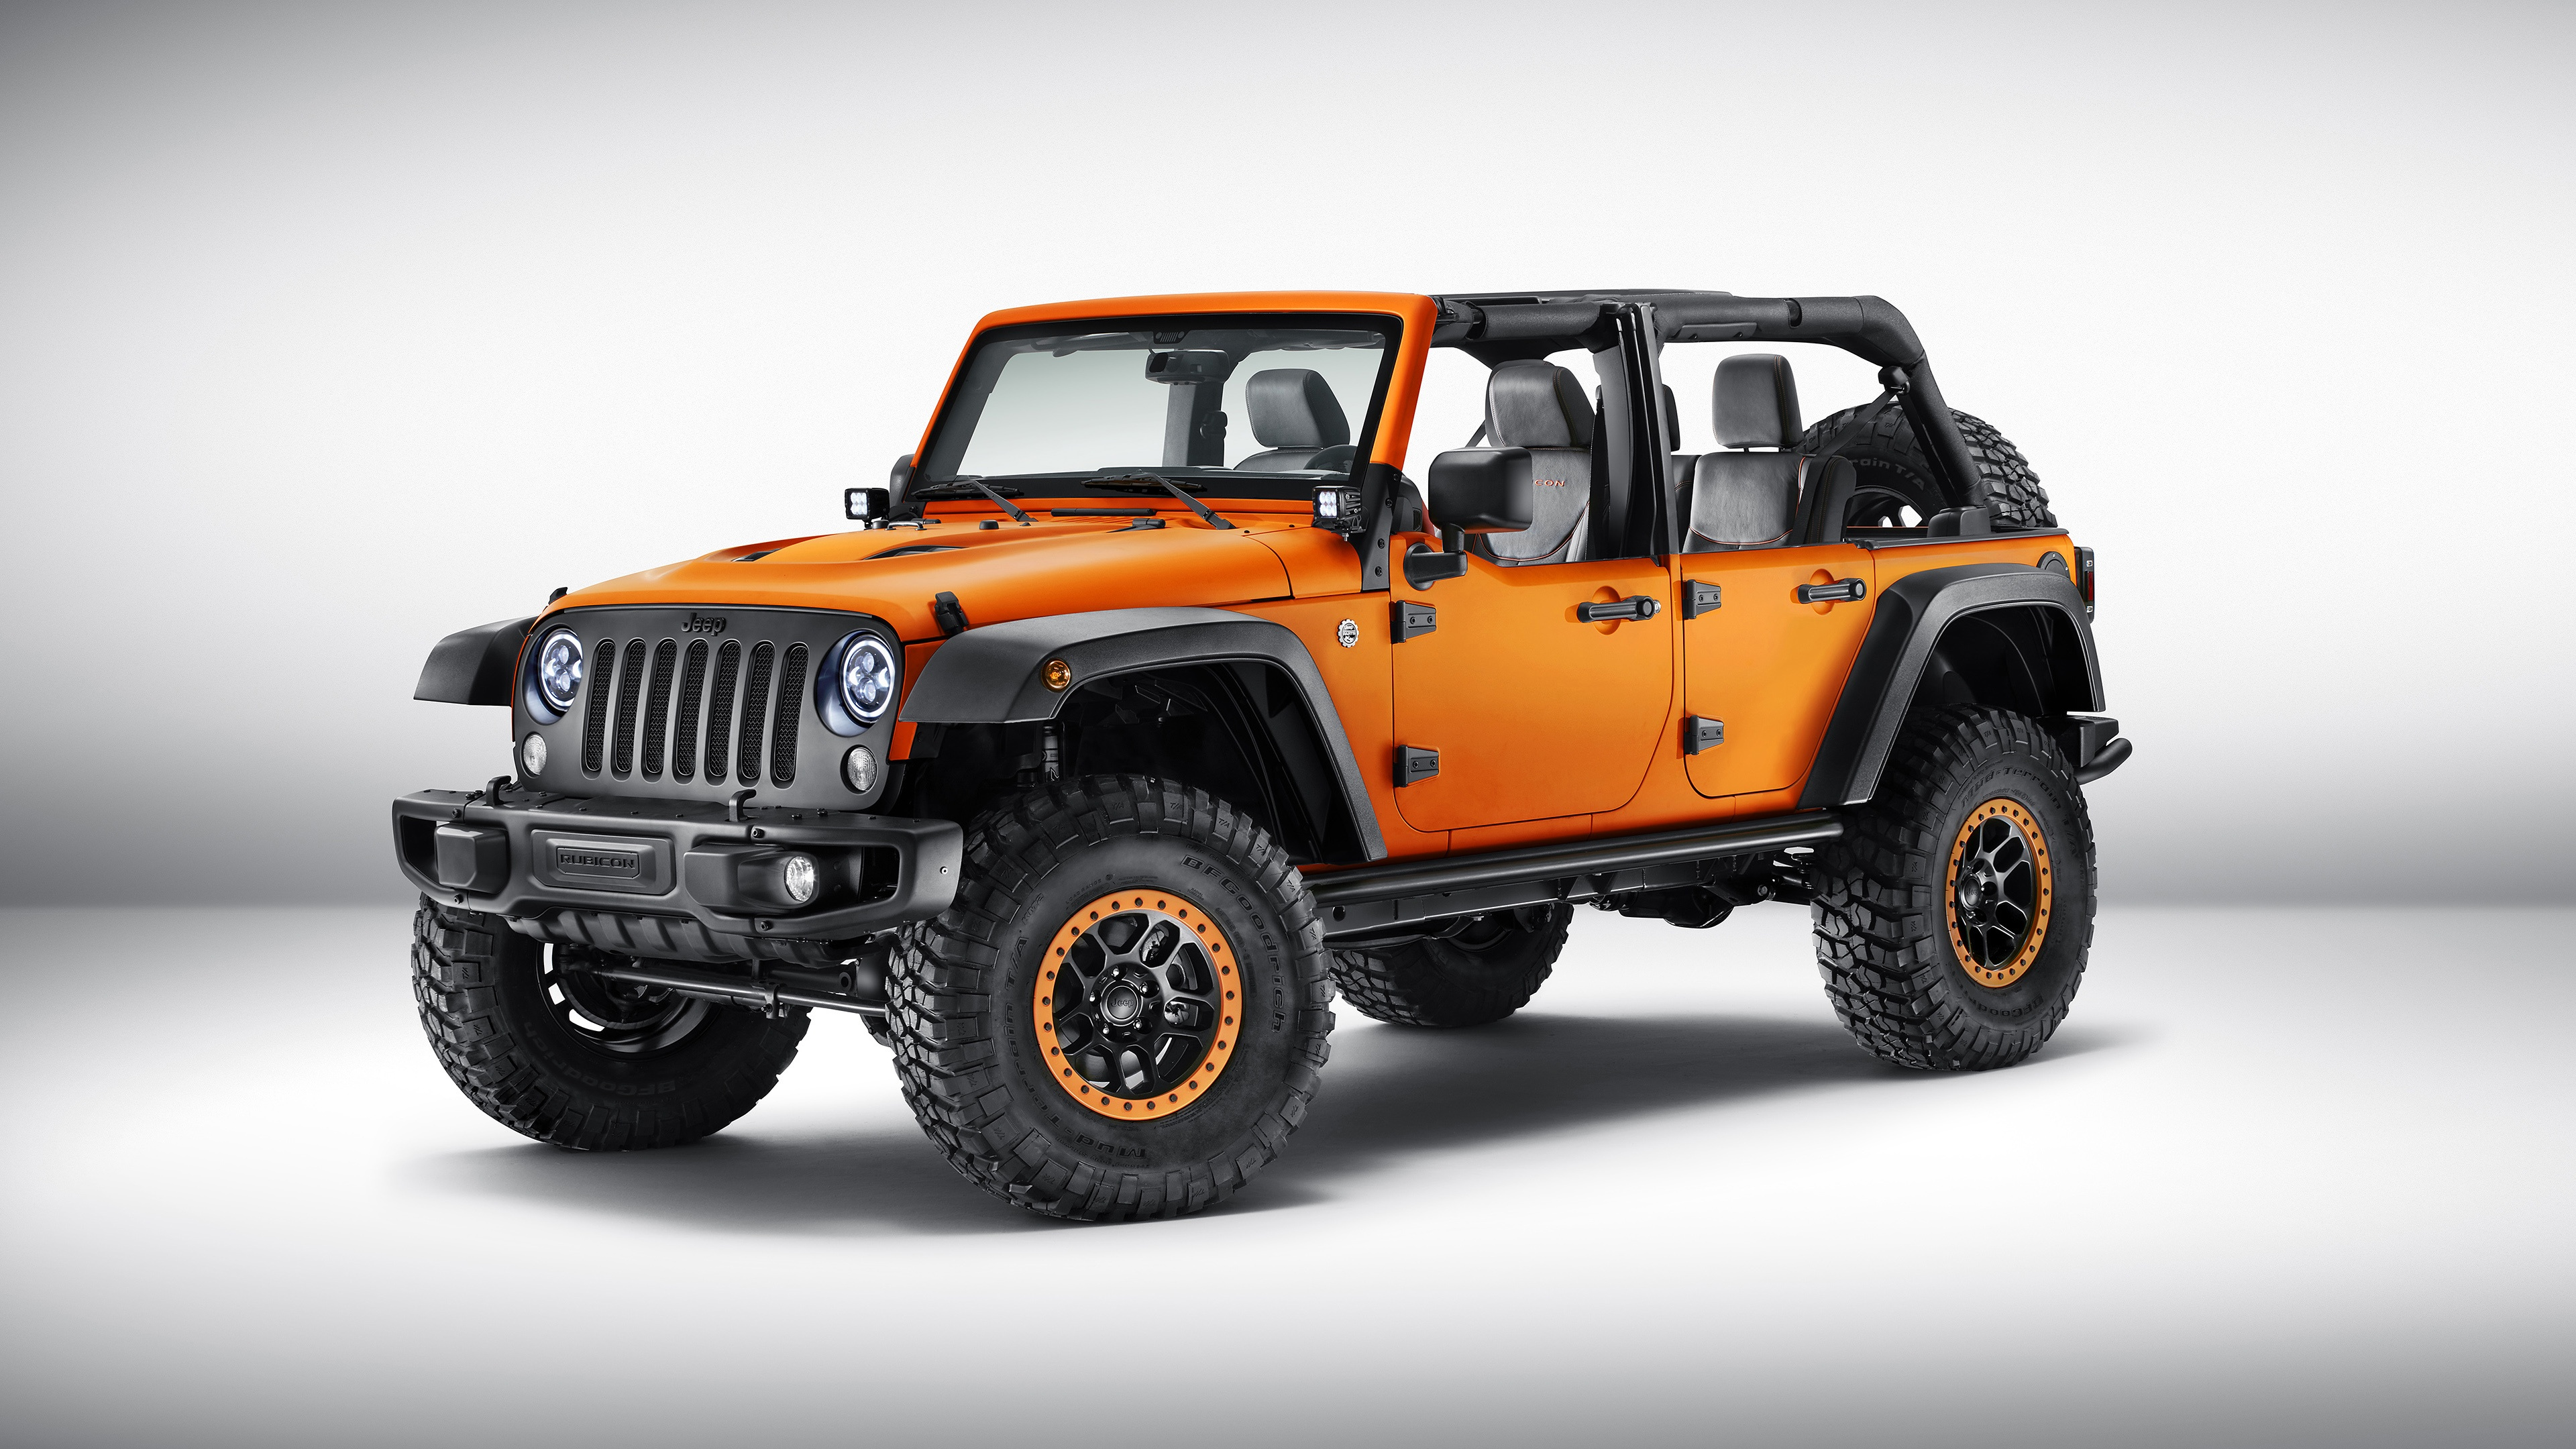jeep: (283, 157, 2091, 1189)
